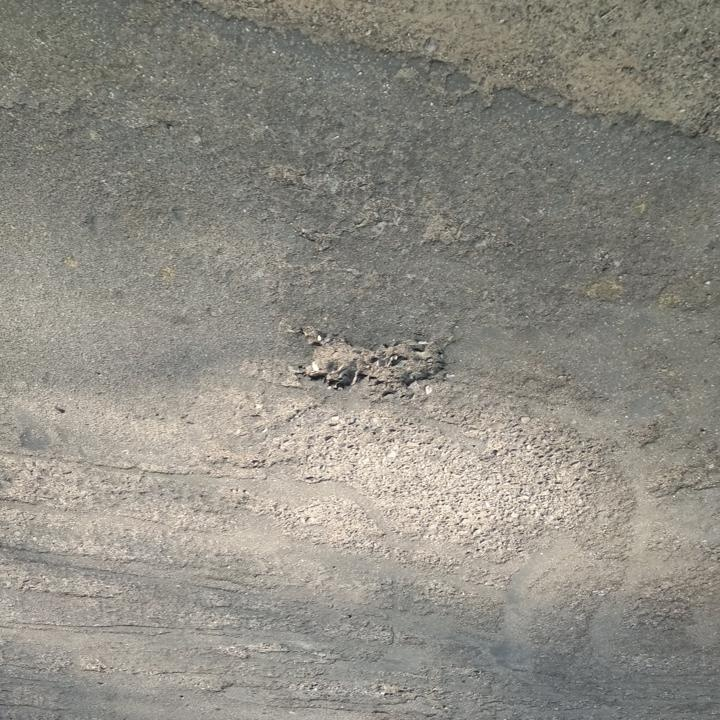pothole: (160, 0, 720, 142), (291, 329, 444, 394)
